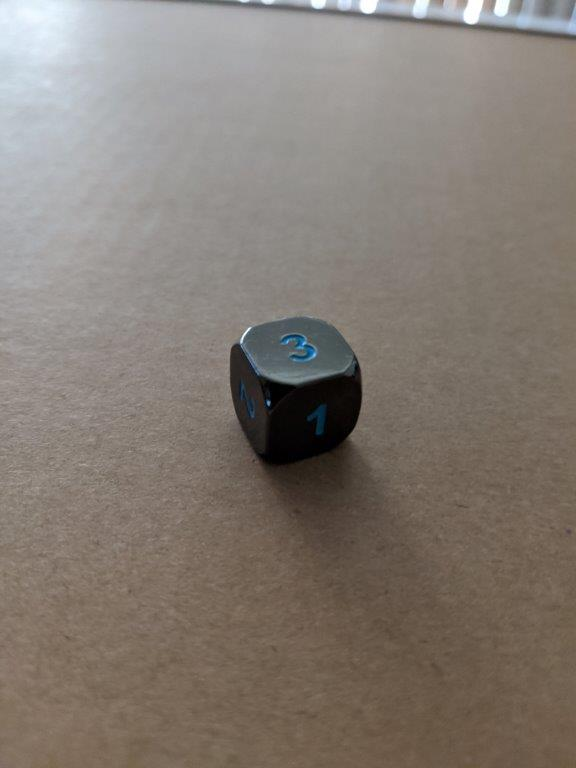d6-3: (229, 315, 365, 464)
